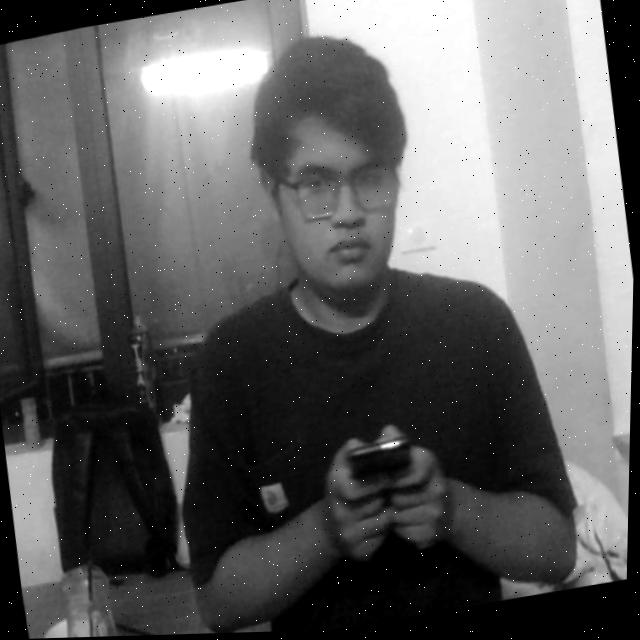phone: (331, 407, 431, 519)
